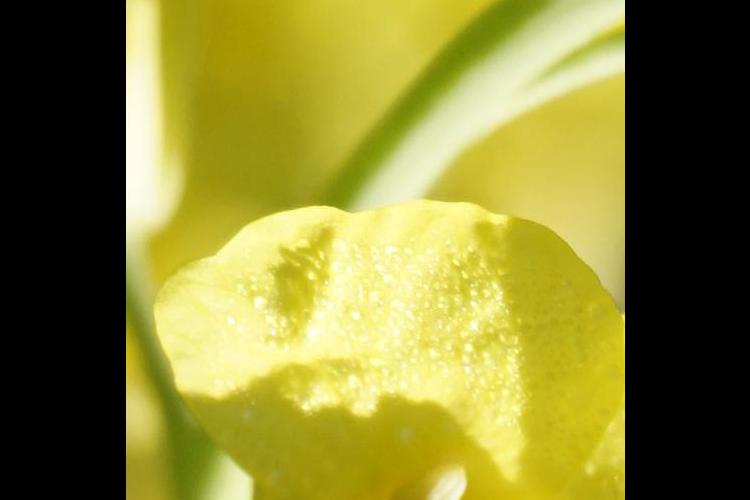yellow: (134, 212, 606, 500)
